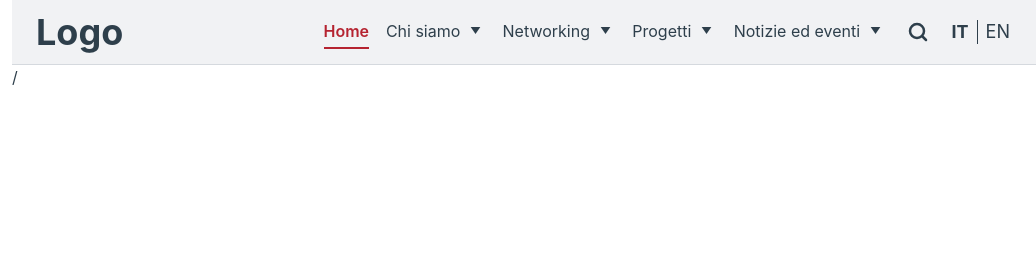
dropdown items scroll targets (it) › /about › clicking "Missione e visione" navigates to the page with its #hash and closes the dropdown
Click the button named "Sottomenu Chi siamo": coordinates (475, 31) [465,19,485,43]
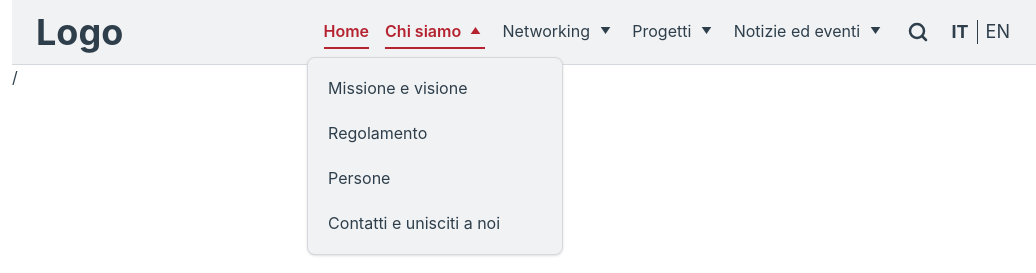
Click the link "Missione e visione": coordinates (398, 88) [328,78,468,98]
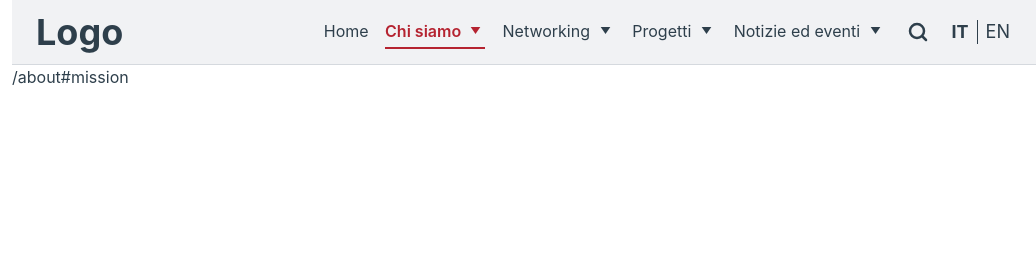
Expected: the text with test id "location" reads "/about#mission", [12,67,129,87]
